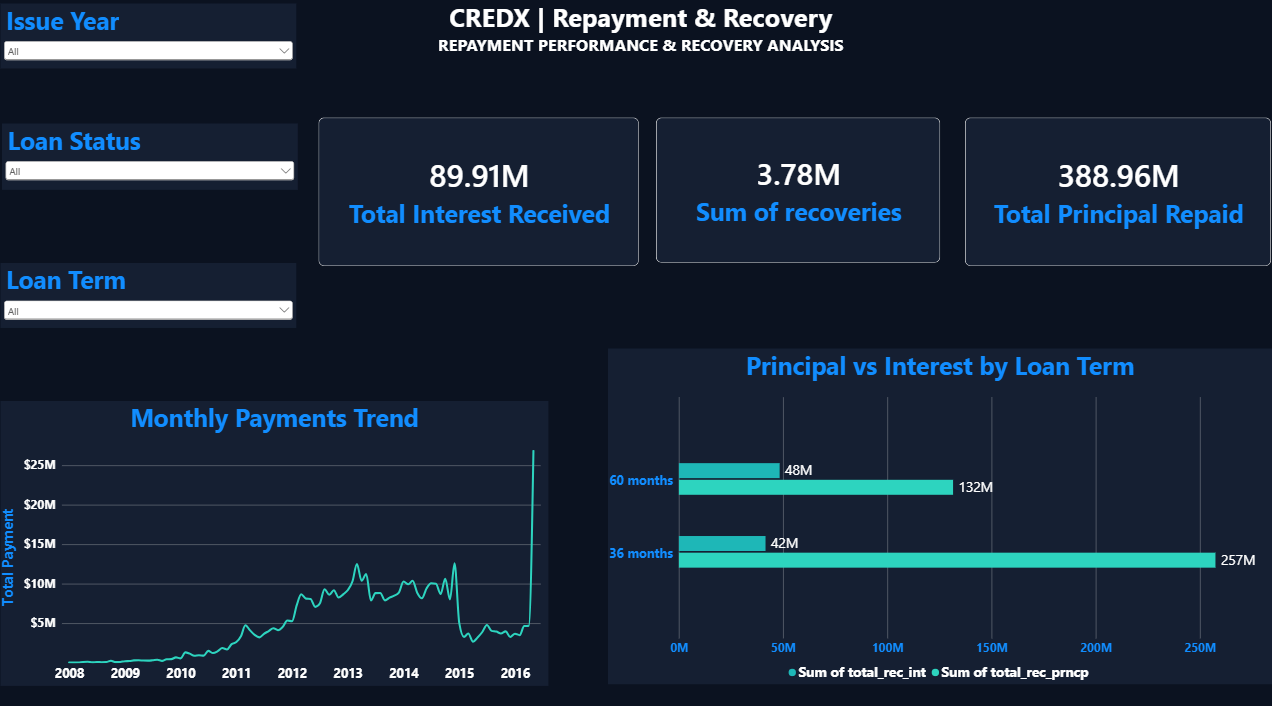

Layout of this report page (visuals, bound fields, positions):
{"tool":"powerbi","page":{"name":"Repayment & Recovery","canvas":[1920,1080],"ordinal":2},"visuals":[{"type":"textbox","box":[9.1,0,1910.2,120.4],"z":0},{"type":"slicer","fields":{"Values":["credx dim_dates.year"]},"box":[25,25,433.8,95.4],"z":1000},{"type":"slicer","fields":{"Values":["credx dim_loan_details.term"]},"box":[25,404.3,433.8,95.4],"z":2000},{"type":"slicer","fields":{"Values":["credx fact_loans.loan_status"]},"box":[27.3,199.9,433.8,97.7],"z":3000},{"type":"cardVisual","fields":{"Data":["Sum(credx fact_loans.total_rec_prncp)"]},"box":[1440,190.8,449.7,218],"z":4000},{"type":"cardVisual","fields":{"Data":["Sum(credx fact_loans.total_rec_int)"]},"box":[490.6,190.8,470.2,218],"z":5000},{"type":"cardVisual","fields":{"Data":["Sum(credx fact_loans.recoveries)"]},"box":[985.7,190.8,417.9,213.5],"z":6000},{"type":"lineChart","title":"Monthly Payments Trend","fields":{"Category":["credx fact_loans.last_pymnt_date"],"Y":["Sum(credx fact_loans.total_pymnt)"]},"box":[25,606.4,804,417.9],"z":7000},{"type":"clusteredBarChart","title":"Principal vs Interest by Loan Term","fields":{"Category":["credx dim_loan_details.term"],"Y":["Sum(credx fact_loans.total_rec_int)","Sum(credx fact_loans.total_rec_prncp)"]},"box":[915.3,531.5,974.4,492.9],"z":7001}]}

Visuals, with their boxes in screenshot pixels (x1, y1, x2, y2), scaled from the page's 1920x1080 canvas onto the 1272x706 screenshot:
textbox: BBox(6, 0, 1271, 79)
slicer - credx dim_dates.year: BBox(17, 16, 304, 79)
slicer - credx dim_loan_details.term: BBox(17, 264, 304, 327)
slicer - credx fact_loans.loan_status: BBox(18, 131, 305, 195)
cardVisual - Sum(credx fact_loans.total_rec_prncp): BBox(954, 125, 1252, 267)
cardVisual - Sum(credx fact_loans.total_rec_int): BBox(325, 125, 637, 267)
cardVisual - Sum(credx fact_loans.recoveries): BBox(653, 125, 930, 264)
"Monthly Payments Trend" lineChart: BBox(17, 396, 549, 670)
"Principal vs Interest by Loan Term" clusteredBarChart: BBox(606, 347, 1252, 670)
